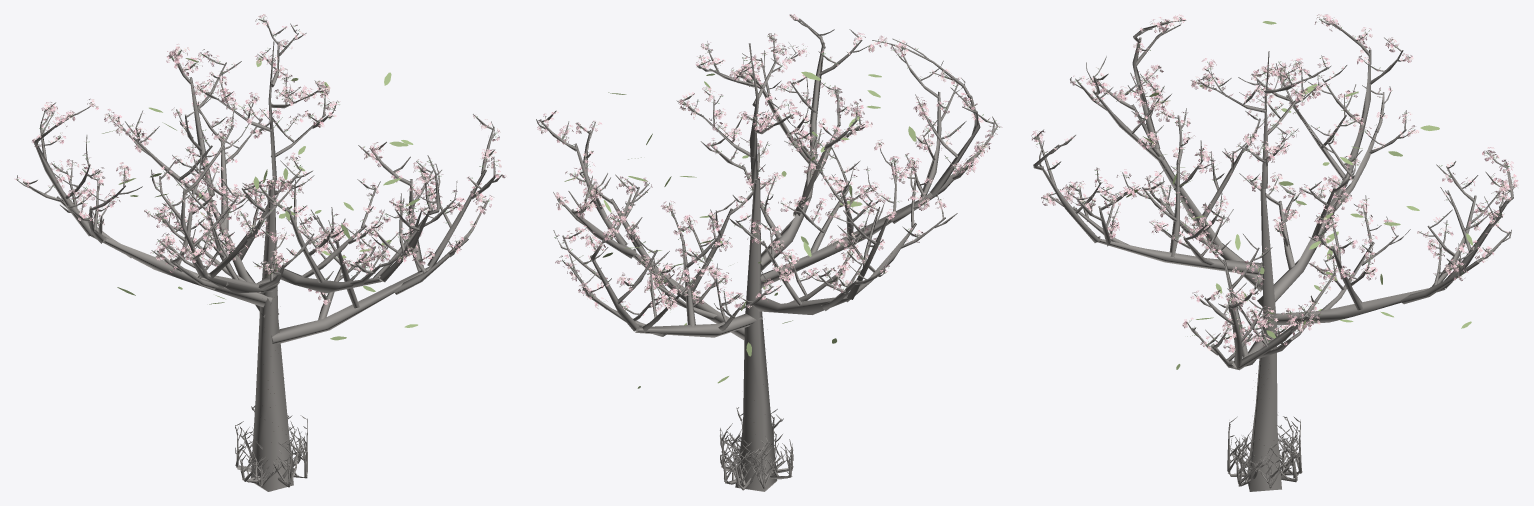
The model's file is akebono_05.glb.
The picture shows the model from 3 angles, left to right: view 1: azimuth 30°, elevation 25°; view 2: azimuth 150°, elevation 25°; view 3: azimuth 270°, elevation 25°; orthographic projection.
Parts seen in each view (by area): view 1: Akebono_Petals_Consolidated, Akebono_Branch_Order_2, Akebono_Branch_Order_3, Akebono_Branch_Order_4, Akebono_Trunk_and_Scaffolds.001, Akebono_Trunk_and_Scaffolds, Akebono_Calyx_and_Stamens; view 2: Akebono_Petals_Consolidated, Akebono_Branch_Order_2, Akebono_Branch_Order_3, Akebono_Branch_Order_4, Akebono_Trunk_and_Scaffolds.001, Akebono_Trunk_and_Scaffolds, Akebono_Calyx_and_Stamens; view 3: Akebono_Petals_Consolidated, Akebono_Branch_Order_2, Akebono_Branch_Order_3, Akebono_Branch_Order_4, Akebono_Trunk_and_Scaffolds.001, Akebono_Trunk_and_Scaffolds, Akebono_Calyx_and_Stamens.
Part boxes in pixels (bbox=[...]): Akebono_Petals_Consolidated: bbox=[14, 14, 506, 304]; Akebono_Branch_Order_2: bbox=[34, 41, 486, 485]; Akebono_Branch_Order_3: bbox=[23, 20, 496, 483]; Akebono_Branch_Order_4: bbox=[16, 17, 502, 470]; Akebono_Trunk_and_Scaffolds.001: bbox=[91, 41, 430, 487]; Akebono_Trunk_and_Scaffolds: bbox=[250, 179, 293, 491]; Akebono_Calyx_and_Stamens: bbox=[17, 17, 502, 296]; Akebono_Petals_Consolidated: bbox=[537, 14, 1002, 315]; Akebono_Branch_Order_2: bbox=[571, 42, 980, 489]; Akebono_Branch_Order_3: bbox=[539, 19, 995, 480]; Akebono_Branch_Order_4: bbox=[536, 14, 997, 473]; Akebono_Trunk_and_Scaffolds.001: bbox=[625, 43, 930, 490]; Akebono_Trunk_and_Scaffolds: bbox=[735, 178, 777, 491]; Akebono_Calyx_and_Stamens: bbox=[541, 16, 1000, 310]; Akebono_Petals_Consolidated: bbox=[1031, 14, 1518, 352]; Akebono_Branch_Order_2: bbox=[1039, 37, 1508, 488]; Akebono_Branch_Order_3: bbox=[1033, 20, 1513, 480]; Akebono_Branch_Order_4: bbox=[1033, 18, 1513, 471]; Akebono_Trunk_and_Scaffolds.001: bbox=[1098, 51, 1445, 487]; Akebono_Trunk_and_Scaffolds: bbox=[1247, 183, 1281, 491]; Akebono_Calyx_and_Stamens: bbox=[1034, 18, 1516, 352].
Size of the model in its own units: 9.99 by 9.85 by 9.94.
